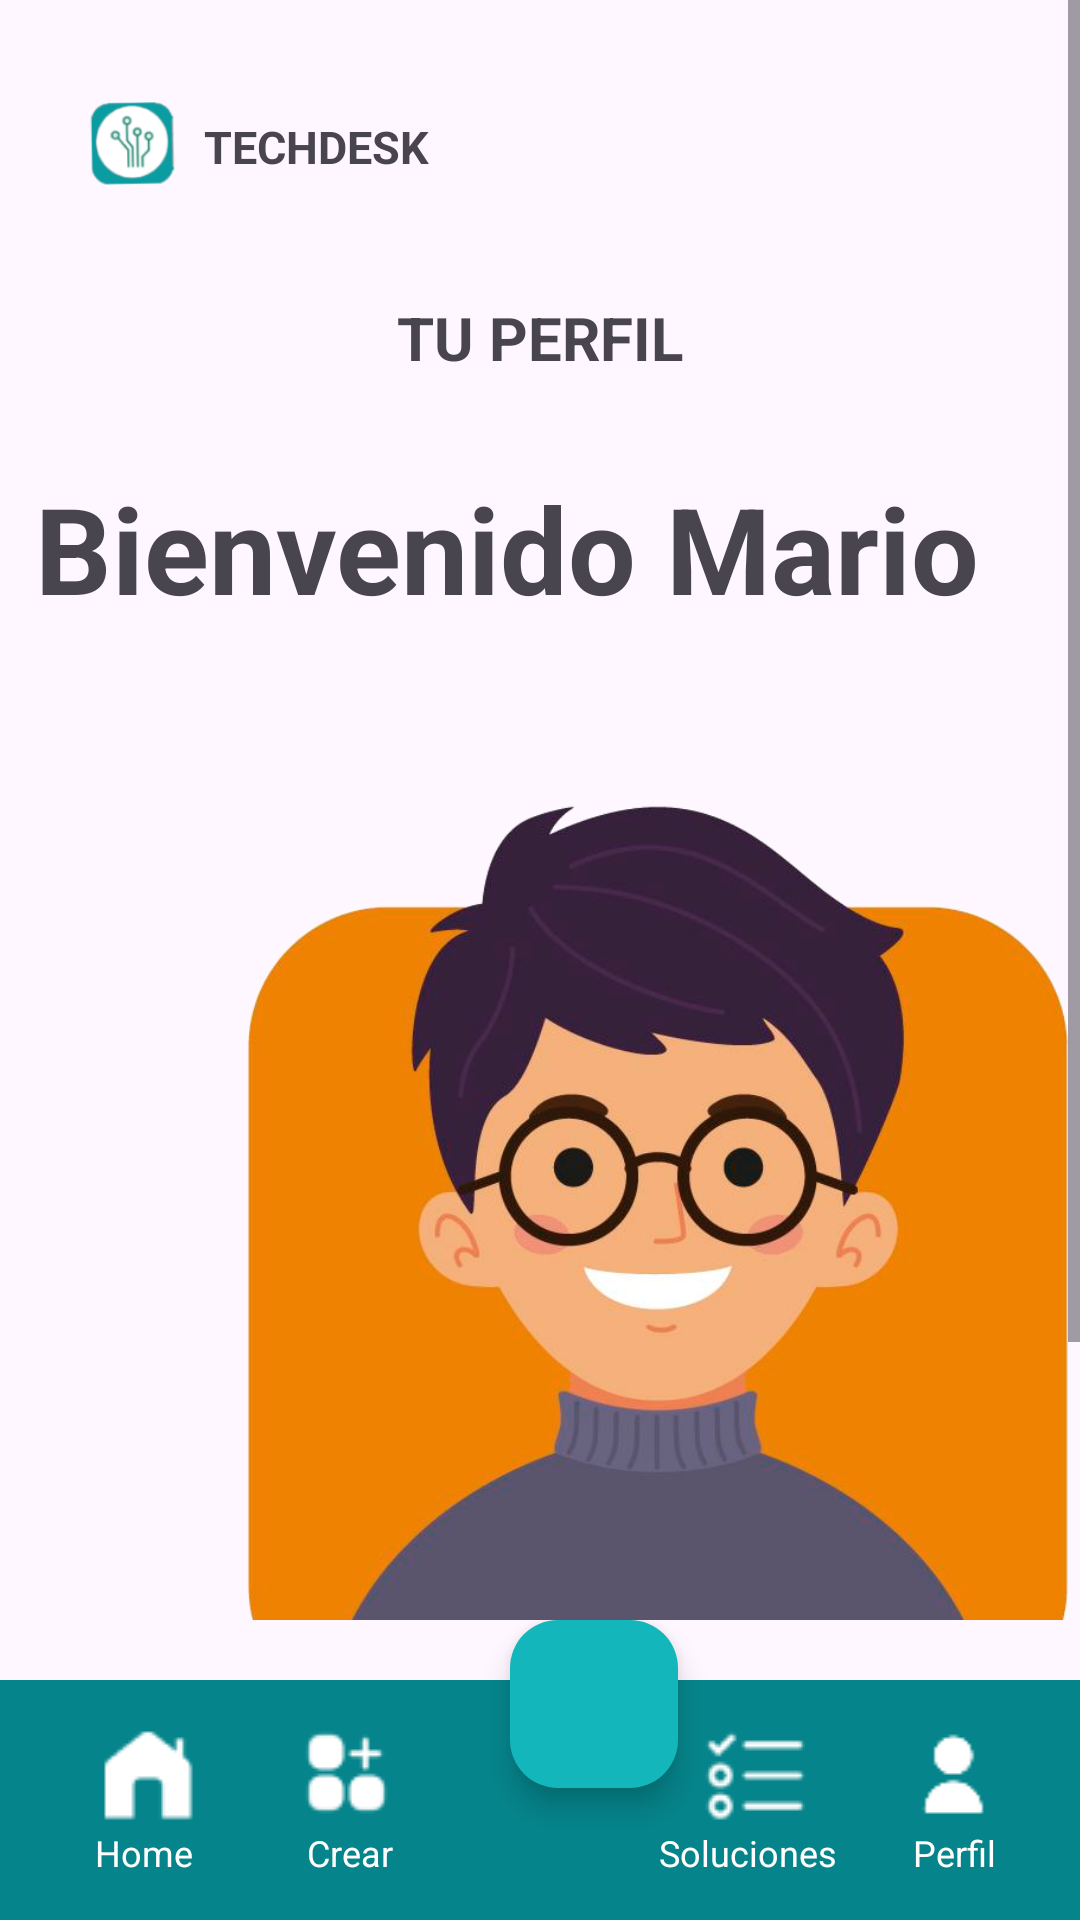

Icons on this 1080 x 1920 Android screen, each with the point to tap as (x=x, y=y):
apps: (x=346, y=1772)
tareas: (x=755, y=1776)
usuario: (x=953, y=1774)
